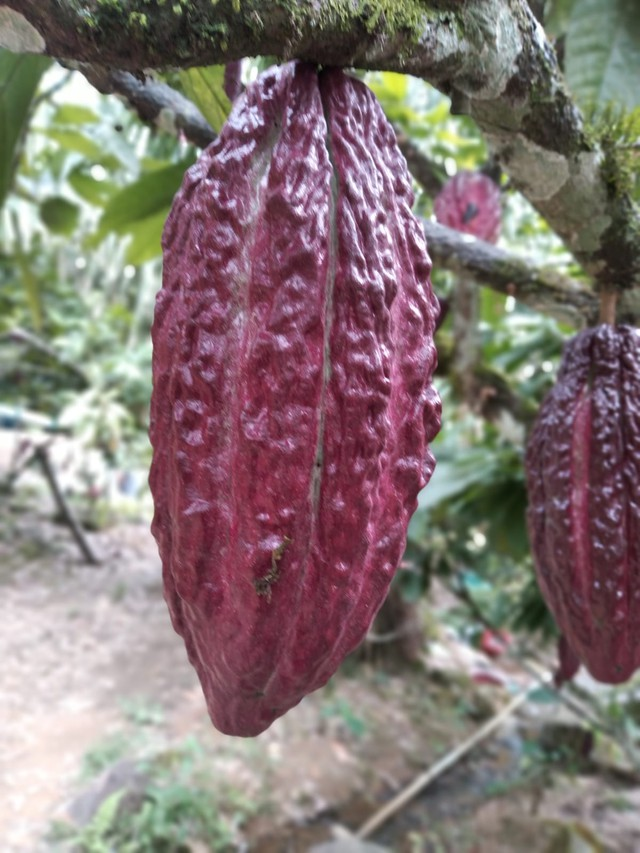Health: (135, 32, 462, 743)
